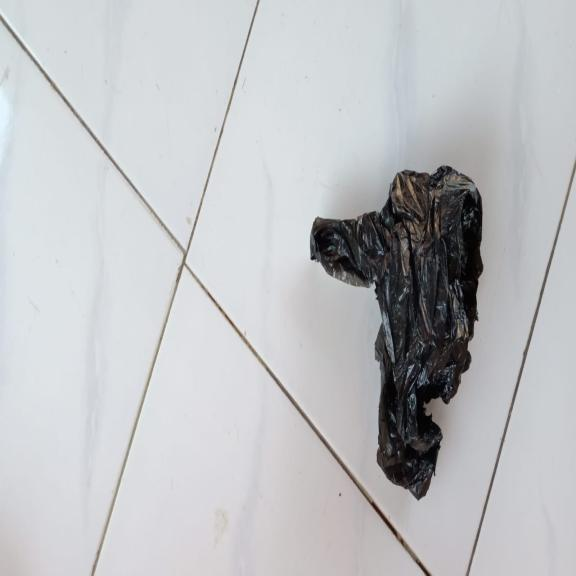Plastik: (309, 166, 484, 502)
